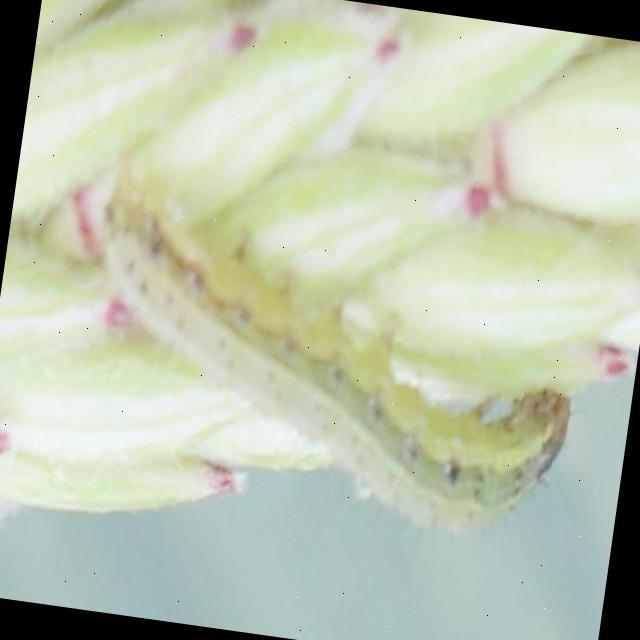worm: (1, 1, 640, 627), (63, 195, 594, 552)
